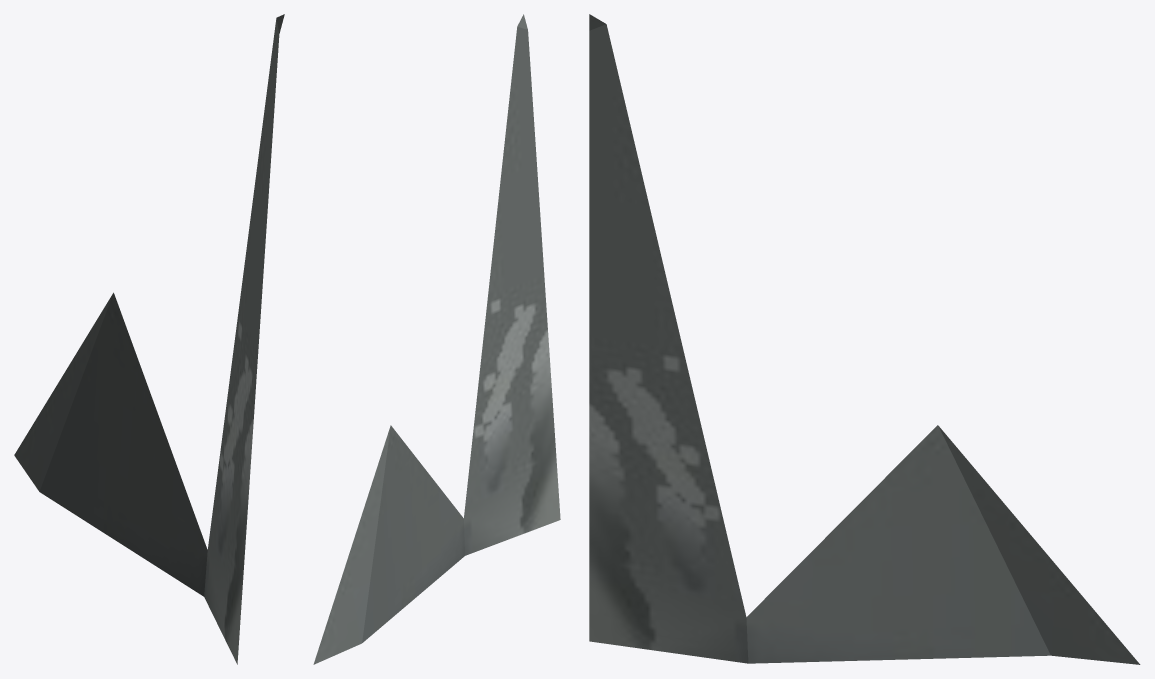
3 views of the same model, side by side, from view 1: azimuth 30°, elevation 25°; view 2: azimuth 150°, elevation 25°; view 3: azimuth 270°, elevation 25° (orthographic). The views are drawn at different scales.
Size of the model in its own units: 0.0363 by 0.4692 by 0.3601.
1 material, 1 textured.
